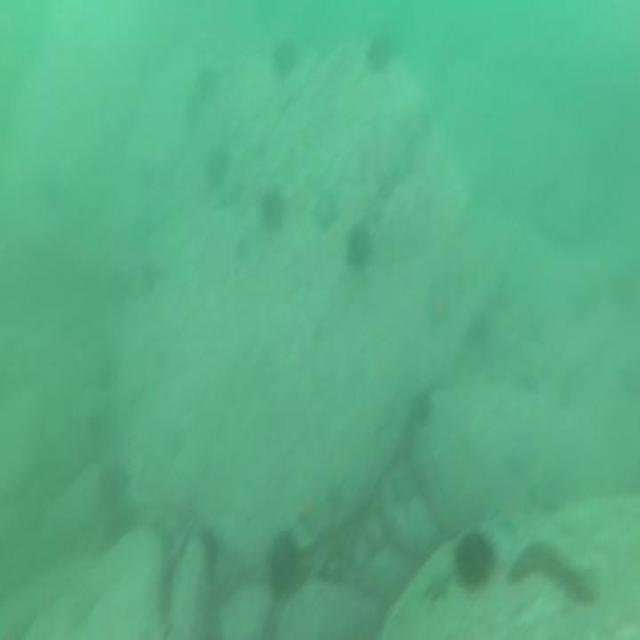echinus: (449, 526, 497, 596), (265, 530, 300, 608), (199, 143, 232, 195), (342, 220, 375, 272), (259, 185, 288, 242), (268, 33, 300, 81), (365, 32, 394, 78), (464, 310, 491, 356), (411, 389, 437, 433), (193, 62, 219, 104)
holothurian: (508, 534, 593, 610)
starfish: (94, 455, 136, 522), (306, 182, 348, 238), (419, 564, 456, 620), (422, 274, 453, 336)
